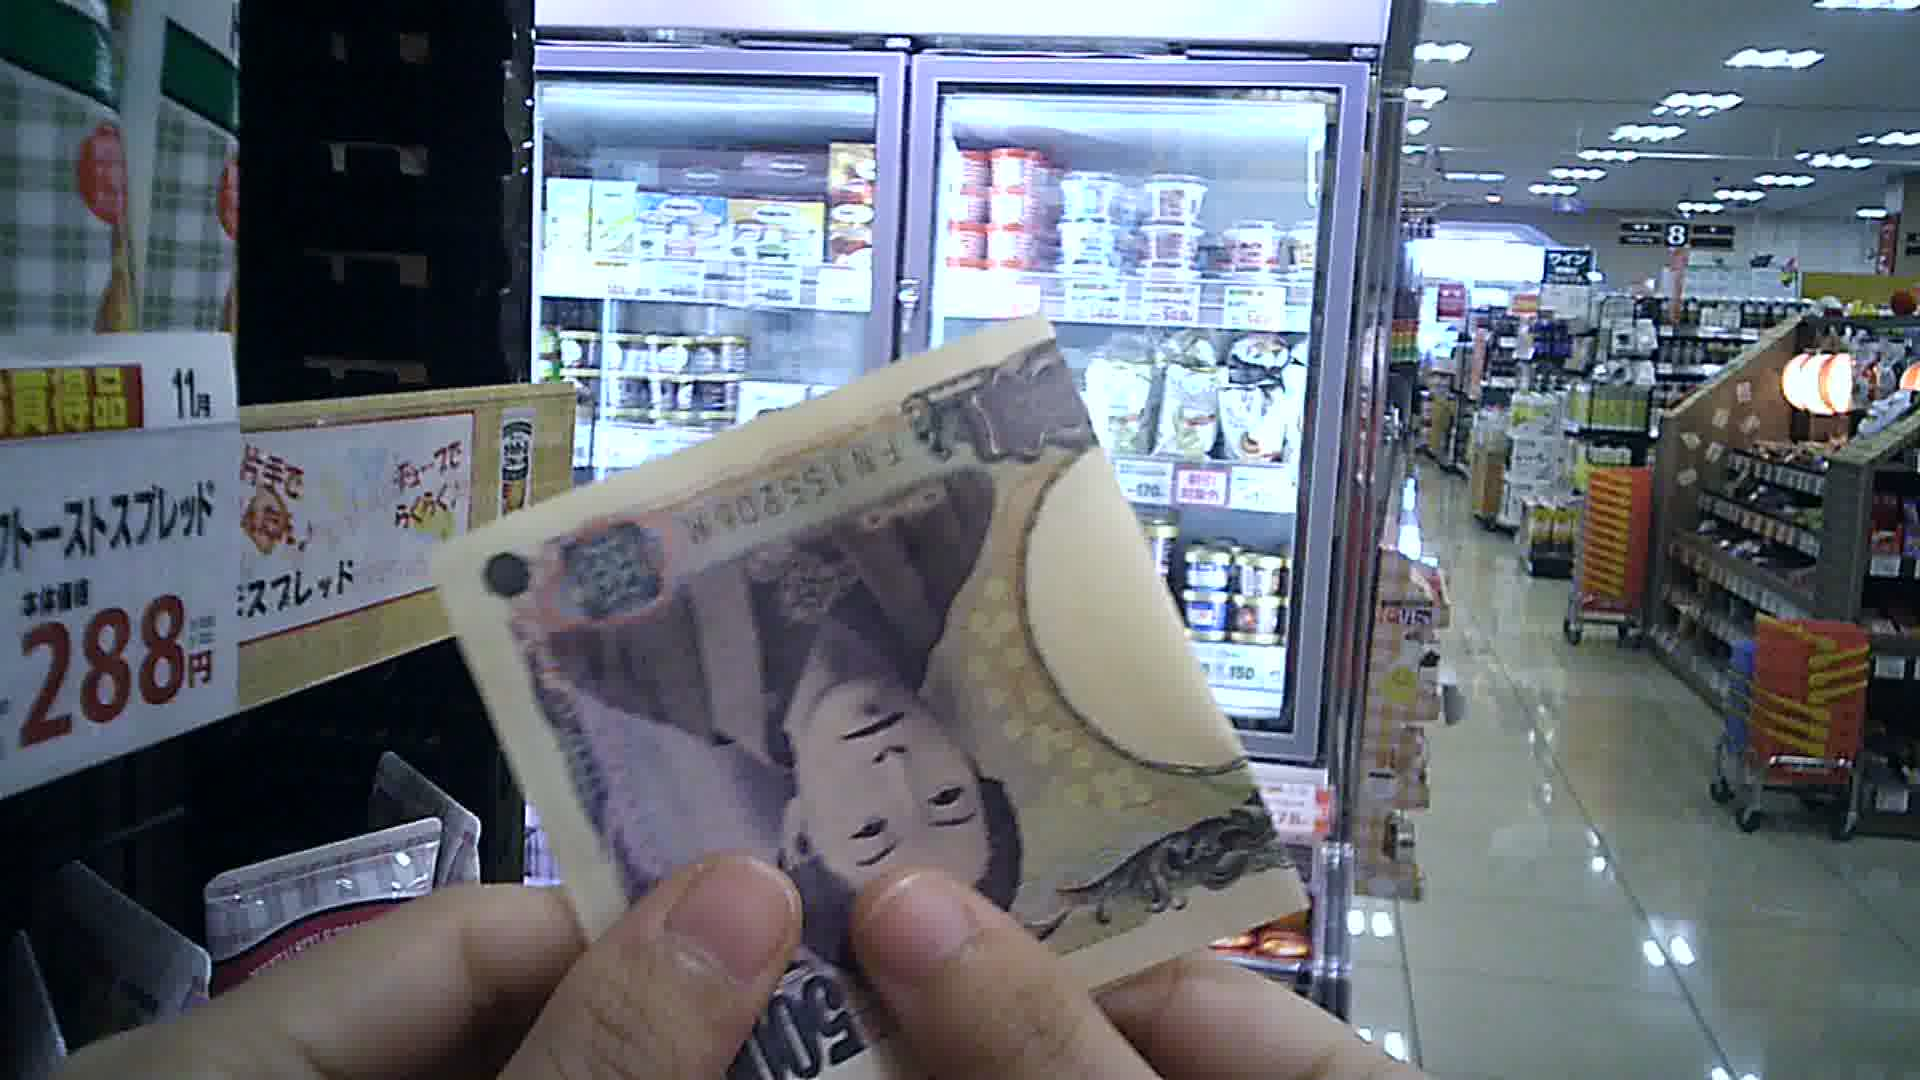5,000 Yen: (419, 320, 1327, 1079)
